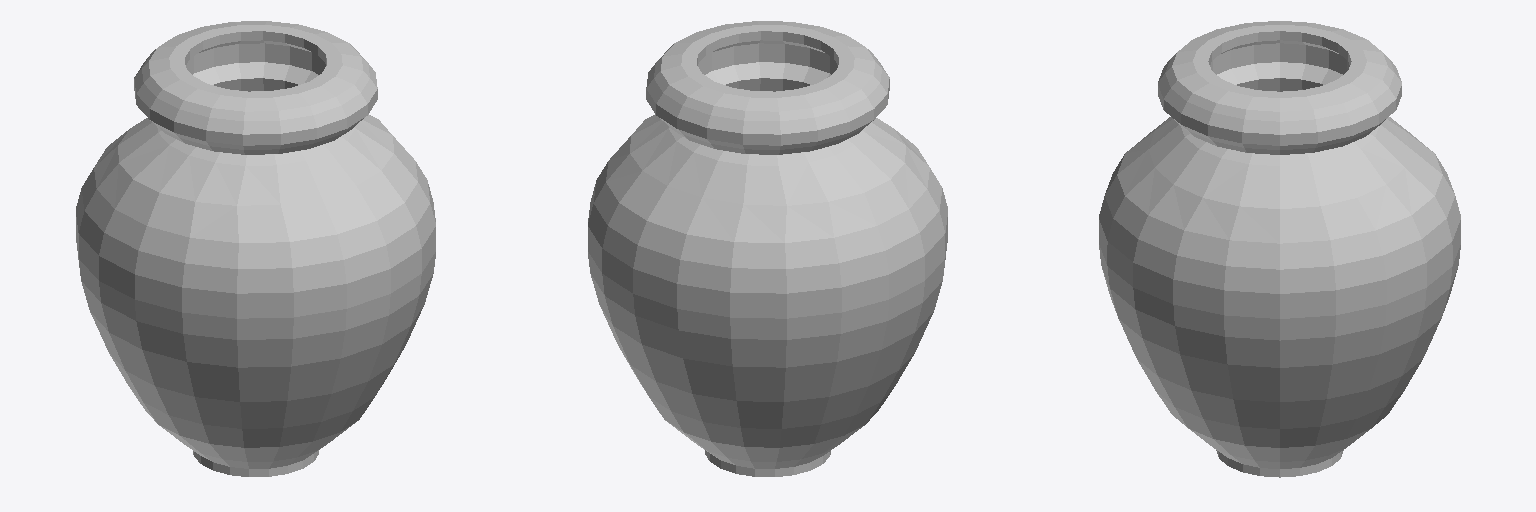
Rendered from Jarron1.obj.
3 views of the same model, side by side, from view 1: azimuth 30°, elevation 25°; view 2: azimuth 150°, elevation 25°; view 3: azimuth 270°, elevation 25° (orthographic).
Visible parts, largest first — view 1: Jarron_pCylinder1; view 2: Jarron_pCylinder1; view 3: Jarron_pCylinder1.
Boxes of the visible parts, x1=… form: Jarron_pCylinder1: x1=76, y1=21, x2=435, y2=476; Jarron_pCylinder1: x1=588, y1=21, x2=947, y2=476; Jarron_pCylinder1: x1=1099, y1=21, x2=1460, y2=477.
Bounding box in the file's own units: 0.7378 × 0.8733 × 0.7378.